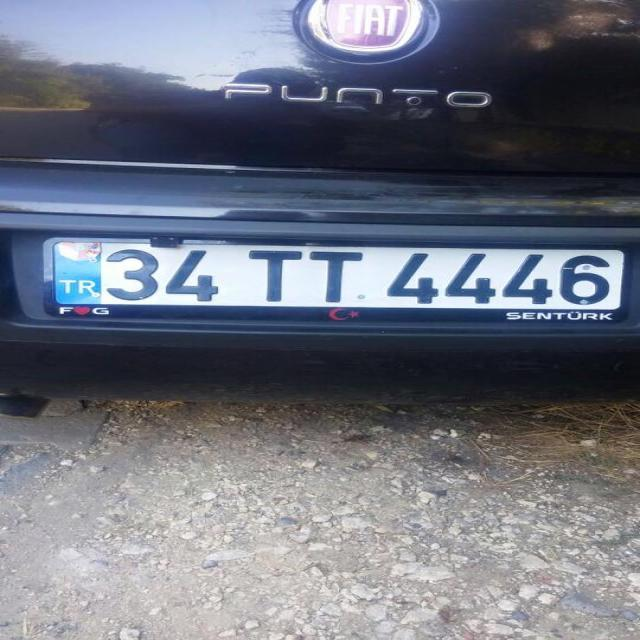plate: (46, 238, 630, 311)
